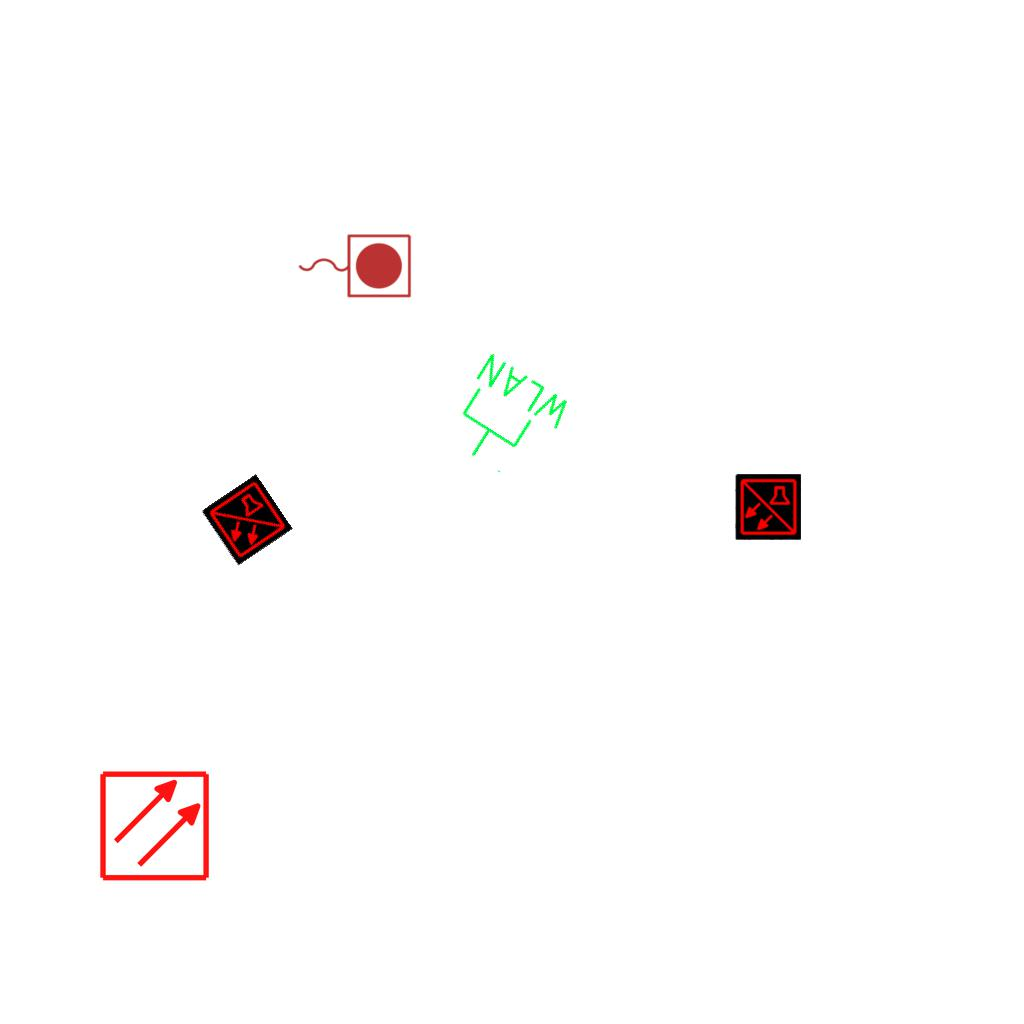OKW_Multisensormelder_(Kombination_optischer_Rauch-Kahlenmonoxid_Waerme-Melder): (201, 474, 293, 566), (735, 474, 801, 540)
RMO_Rauchmelder_optischer: (98, 769, 211, 882)
WLAN: (434, 347, 580, 492)
Zugtaster: (293, 229, 415, 301)
